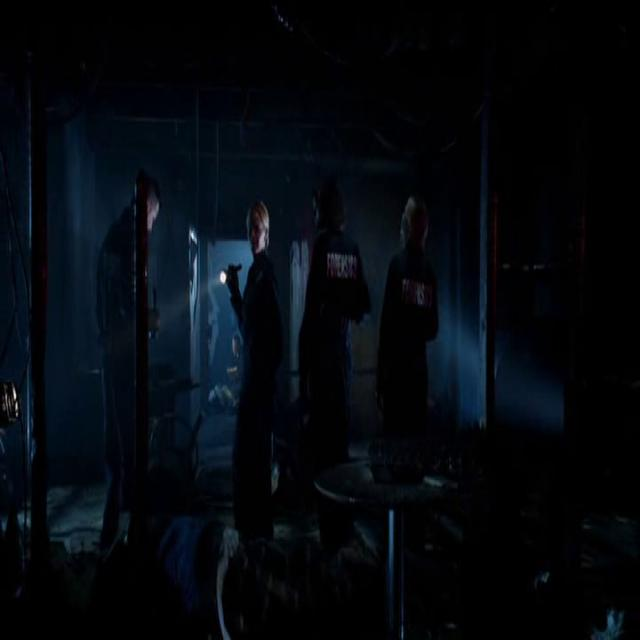People: (296, 146, 381, 464), (105, 156, 166, 572), (227, 185, 296, 546), (382, 164, 452, 468)
